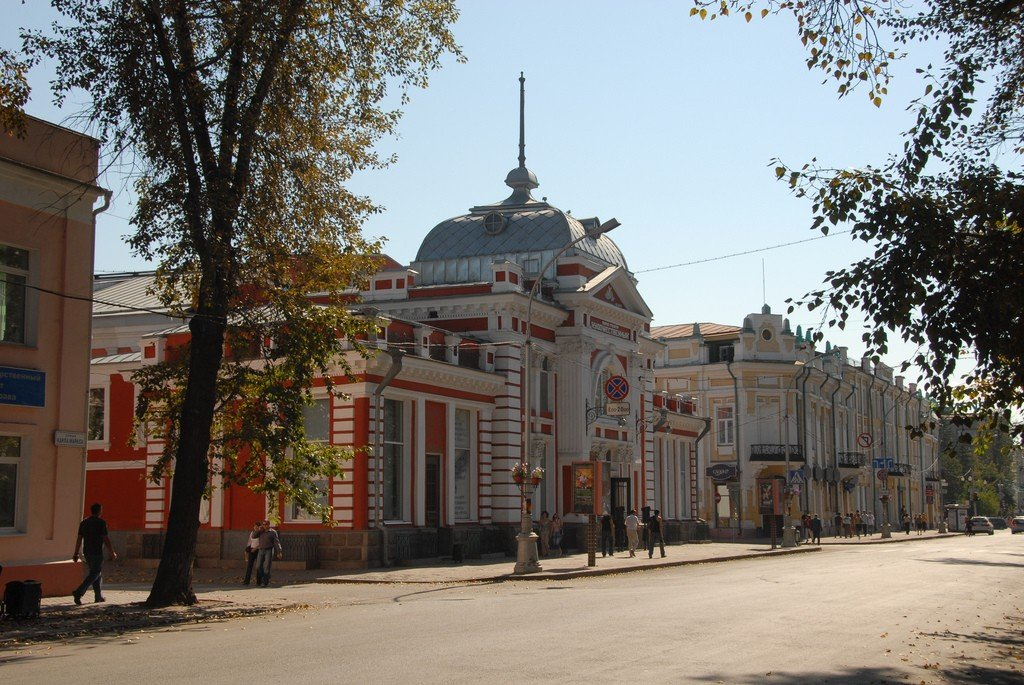sign: (604, 374, 629, 400), (856, 432, 874, 449), (789, 469, 806, 486), (876, 468, 890, 482)
